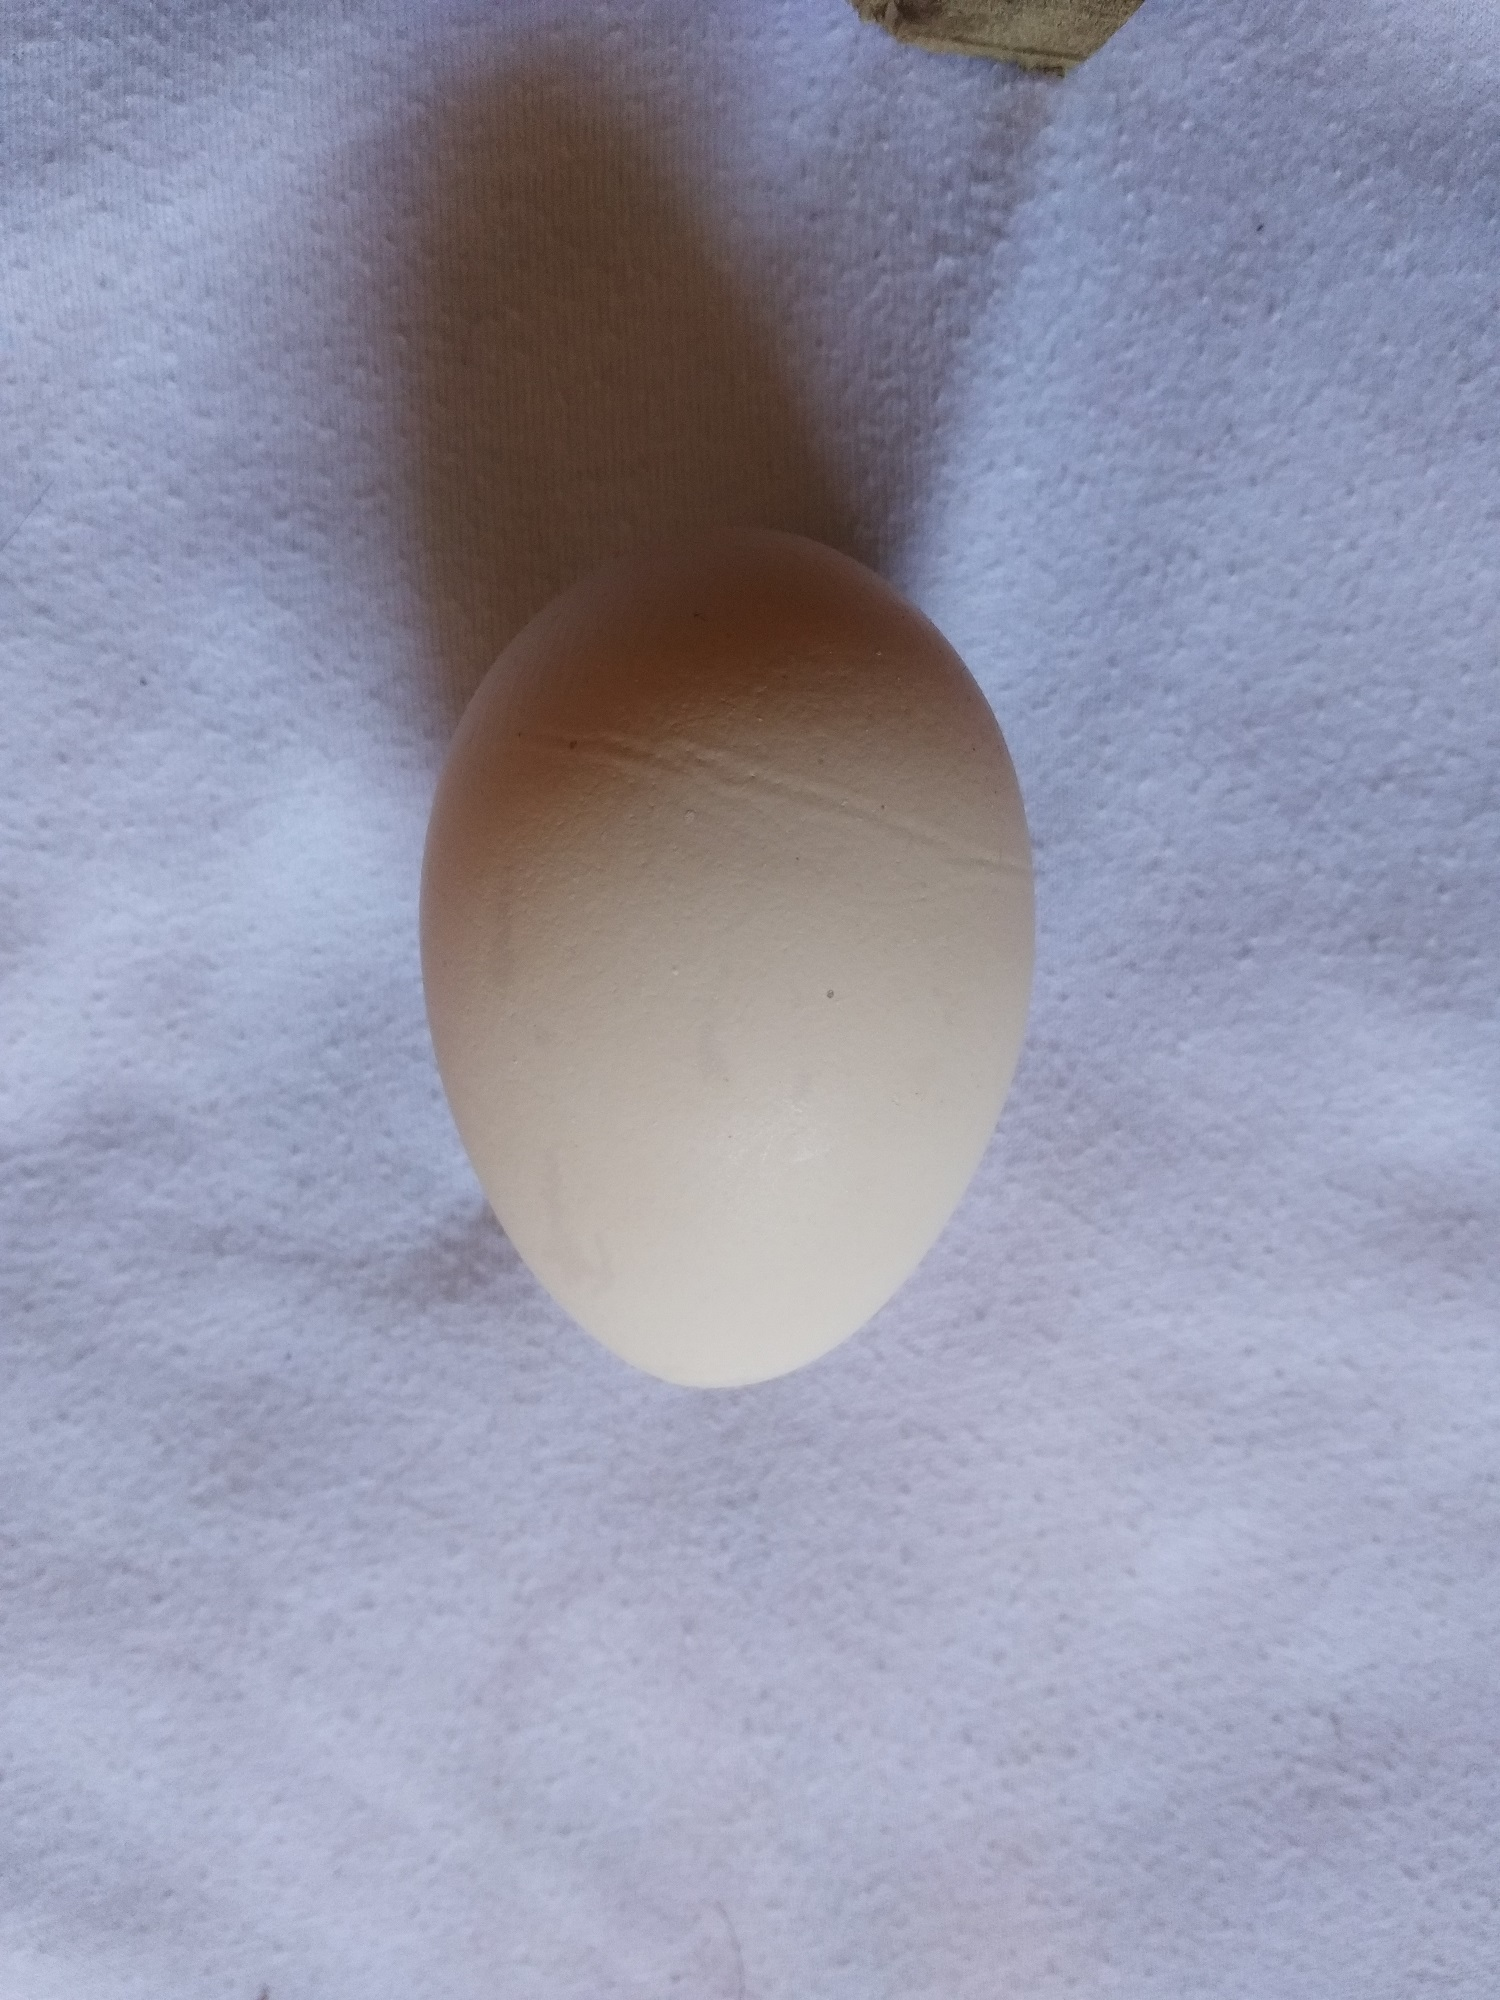Male: (414, 520, 1045, 1400)
